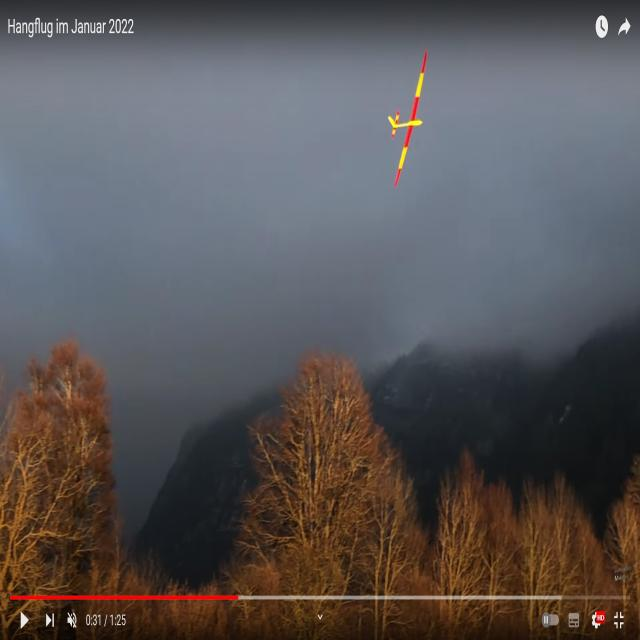iha: (389, 0, 434, 115)
